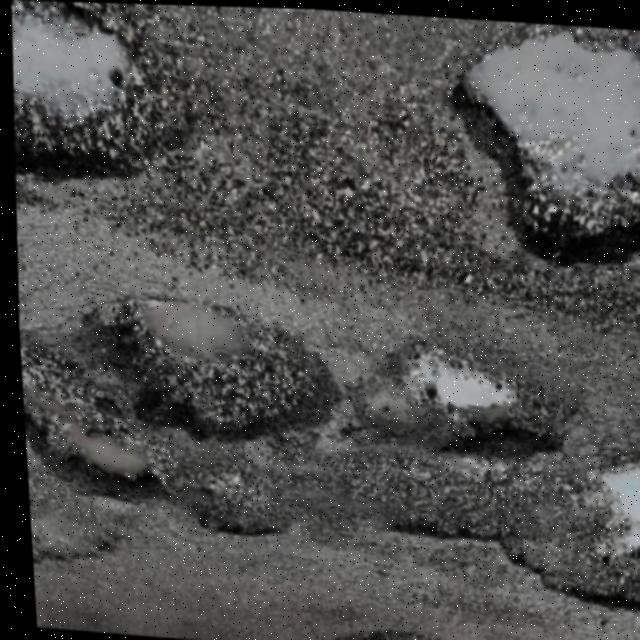Pothole: (4, 0, 260, 229), (343, 398, 640, 593), (434, 14, 640, 281), (329, 312, 598, 480), (71, 286, 357, 444), (12, 266, 166, 516), (141, 465, 337, 562), (23, 497, 161, 603), (315, 592, 480, 640)
